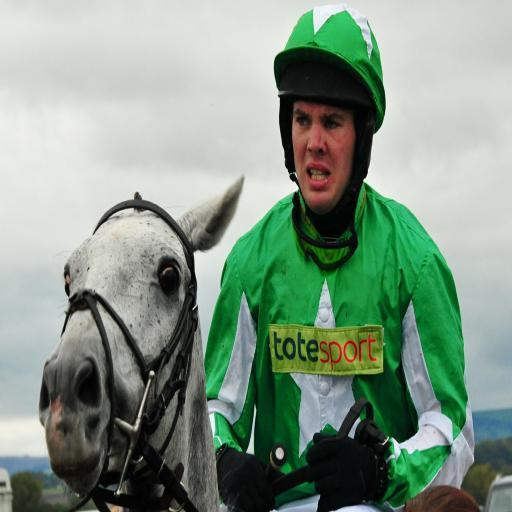horse: (42, 174, 244, 512)
